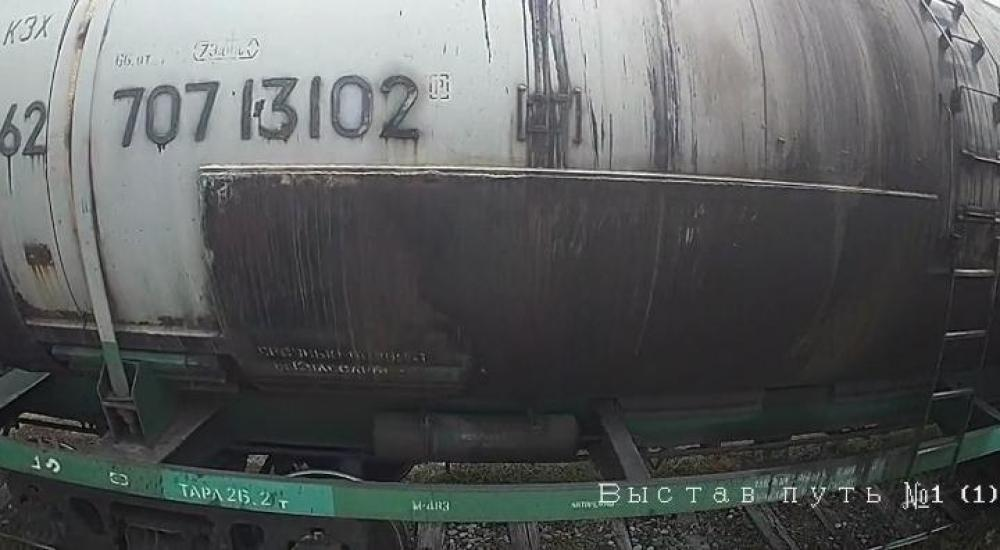Wagon-number: (106, 71, 428, 150)
